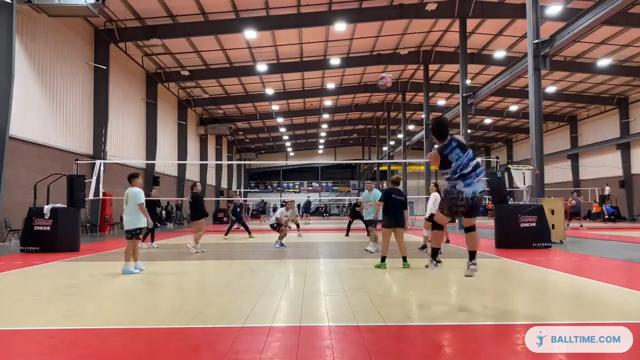battuta: (416, 110, 487, 280)
